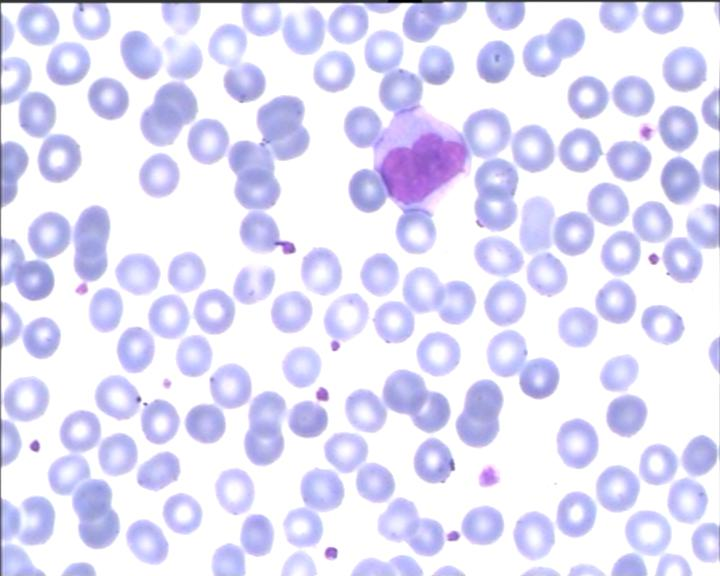mono: (372, 103, 473, 219)
